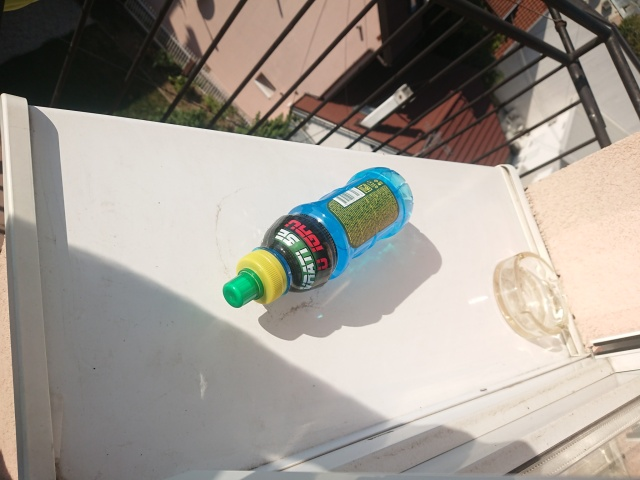Vindi Iso Sport Forest Strawberries 500mL: (221, 164, 416, 309)
